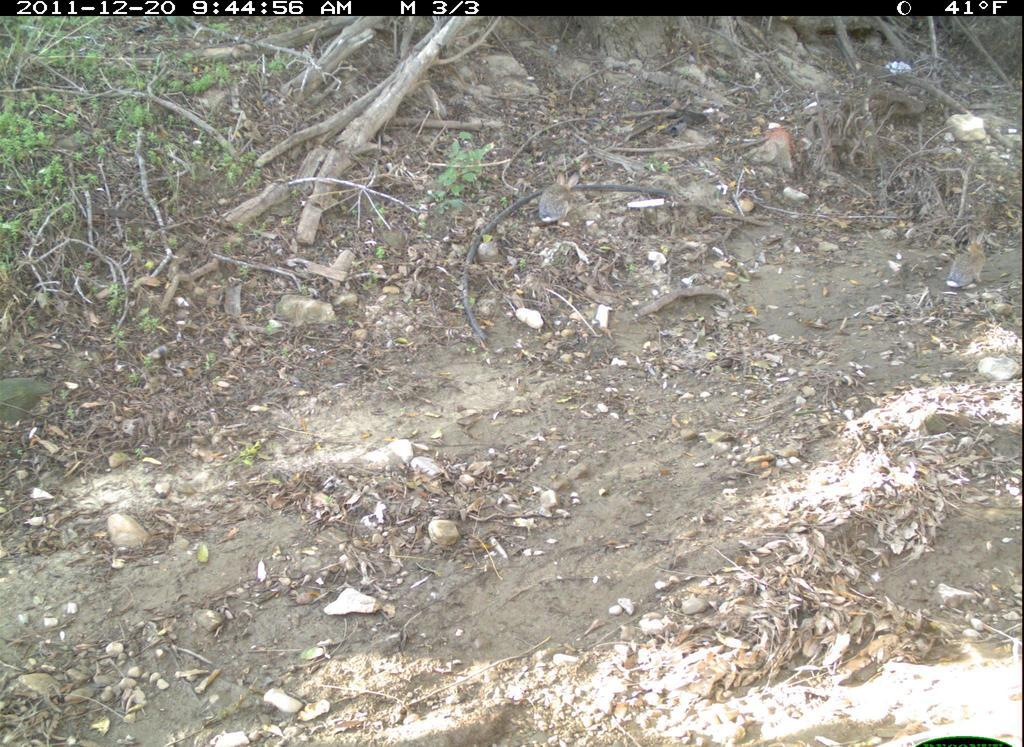rabbit: (939, 223, 999, 297), (536, 164, 584, 231)
